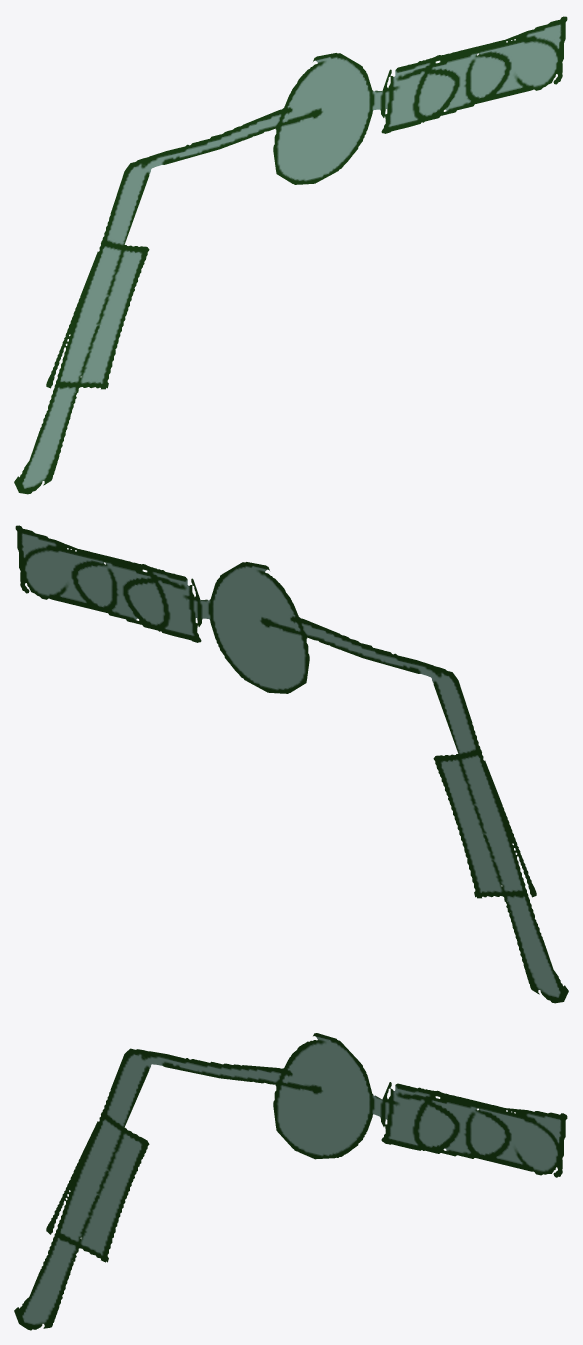
Rendered from TrafficLight_03.fbx.
3 renders of one model, top to bottom at view 1: azimuth 30°, elevation 25°; view 2: azimuth 150°, elevation 25°; view 3: azimuth 330°, elevation 25°, orthographic.
Visible parts, largest first — view 1: 紅綠燈_03; view 2: 紅綠燈_03; view 3: 紅綠燈_03.
Boxes of the visible parts, x1=… form: 紅綠燈_03: x1=14, y1=16, x2=567, y2=494; 紅綠燈_03: x1=15, y1=525, x2=568, y2=1003; 紅綠燈_03: x1=14, y1=1033, x2=567, y2=1330.
Bounding box in the file's own units: 265 × 168 × 2e-05.
Materials: 1 (1 with a texture image).
